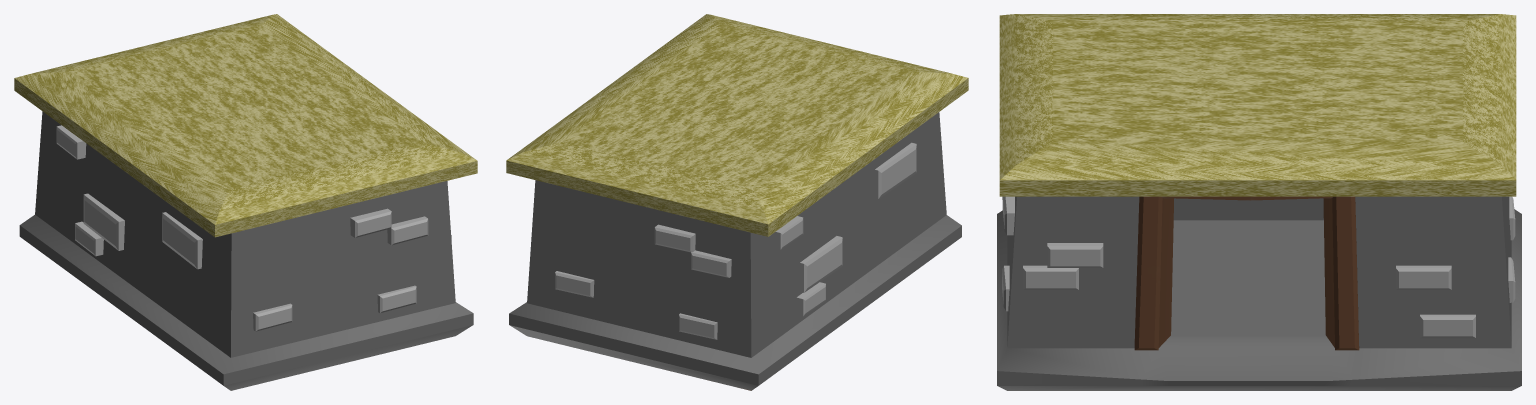
The model's file is House.fbx.
3 renders of one model, left to right at view 1: azimuth 30°, elevation 25°; view 2: azimuth 150°, elevation 25°; view 3: azimuth 270°, elevation 25°, orthographic. The views are drawn at different scales.
Visible parts, largest first — view 1: pCube2, pCube1, pasted__pasted__pasted__pasted__pasted__pCube3 (×2), pasted__pasted__pCube3 (×2), pasted__pasted__pasted__pasted__pasted__pasted__pCube3, pasted__pasted__pasted__pCube3, pasted__pCube3, pasted__pasted__pasted__pasted__pCube3; view 2: pCube2, pCube1, pasted__pasted__pasted__pasted__pasted__pCube3 (×2), pasted__pasted__pasted__pCube3 (×2), pasted__pasted__pasted__pasted__pCube3 (×2), pasted__pasted__pasted__pasted__pasted__pasted__pCube3, pasted__pasted__pCube3; view 3: pCube1, pCube2, pasted__pCube3 (×2), pasted__pasted__pCube3 (×2), pCube3.
Boxes of the visible parts, x1=… form: pCube2: x1=14, y1=14, x2=477, y2=237; pCube1: x1=19, y1=111, x2=473, y2=390; pasted__pasted__pasted__pasted__pasted__pCube3 (×2): x1=56, y1=125, x2=124, y2=250; pasted__pasted__pCube3 (×2): x1=377, y1=216, x2=428, y2=313; pasted__pasted__pasted__pasted__pasted__pasted__pCube3: x1=162, y1=212, x2=202, y2=269; pasted__pasted__pasted__pCube3: x1=350, y1=208, x2=391, y2=237; pasted__pCube3: x1=253, y1=303, x2=292, y2=331; pasted__pasted__pasted__pasted__pCube3: x1=75, y1=221, x2=103, y2=256; pCube2: x1=506, y1=14, x2=968, y2=236; pCube1: x1=509, y1=112, x2=961, y2=390; pasted__pasted__pasted__pasted__pasted__pCube3 (×2): x1=773, y1=216, x2=842, y2=292; pasted__pasted__pasted__pCube3 (×2): x1=679, y1=250, x2=731, y2=339; pasted__pasted__pasted__pasted__pCube3 (×2): x1=654, y1=224, x2=825, y2=316; pasted__pasted__pasted__pasted__pasted__pasted__pCube3: x1=874, y1=142, x2=916, y2=199; pasted__pasted__pCube3: x1=555, y1=271, x2=594, y2=297; pCube1: x1=997, y1=196, x2=1521, y2=390; pCube2: x1=999, y1=14, x2=1516, y2=196; pasted__pCube3 (×2): x1=1047, y1=243, x2=1451, y2=289; pasted__pasted__pCube3 (×2): x1=1002, y1=196, x2=1475, y2=338; pCube3: x1=1023, y1=265, x2=1078, y2=289.
Size of the model in its own units: 6.98 by 4.71 by 9.39.
